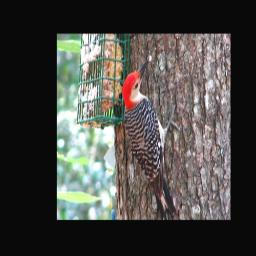Woodpecker: (122, 56, 183, 219)
